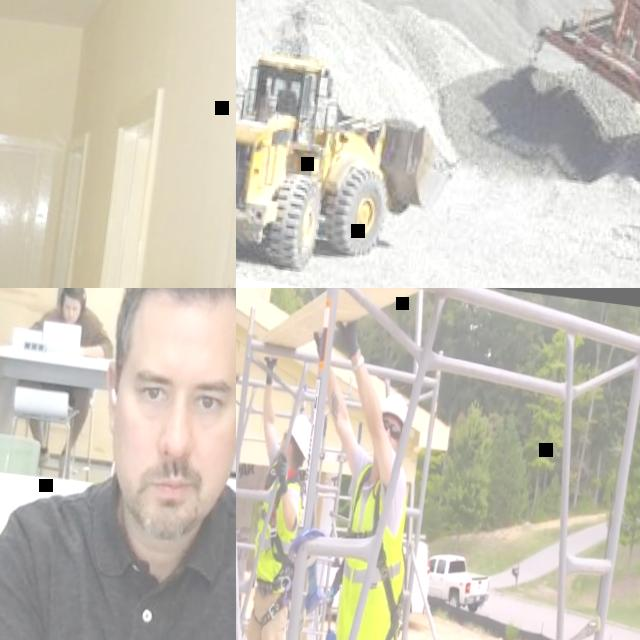Hardhat: (283, 411, 312, 457), (379, 391, 409, 421)
NO-Hardhat: (118, 288, 236, 341), (60, 288, 86, 297)
NO-Mask: (119, 455, 218, 542), (64, 306, 79, 320)
NO-Safety Vest: (22, 498, 236, 640), (52, 305, 96, 346)
Person: (0, 288, 236, 640), (247, 310, 451, 640), (236, 351, 322, 640), (11, 288, 120, 471), (274, 76, 300, 116)
Safety Vest: (334, 459, 414, 640), (250, 460, 306, 592)
vehicle: (236, 20, 473, 288), (520, 0, 640, 204), (320, 523, 436, 634), (423, 551, 493, 613)
